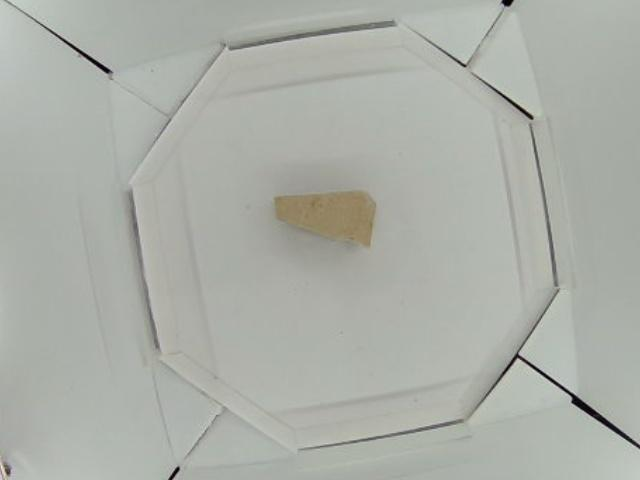China: (274, 196, 377, 248)
